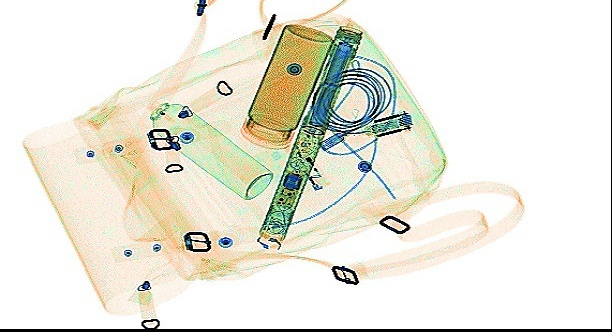lighter: (286, 135, 324, 190)
pressure: (145, 98, 273, 202)
